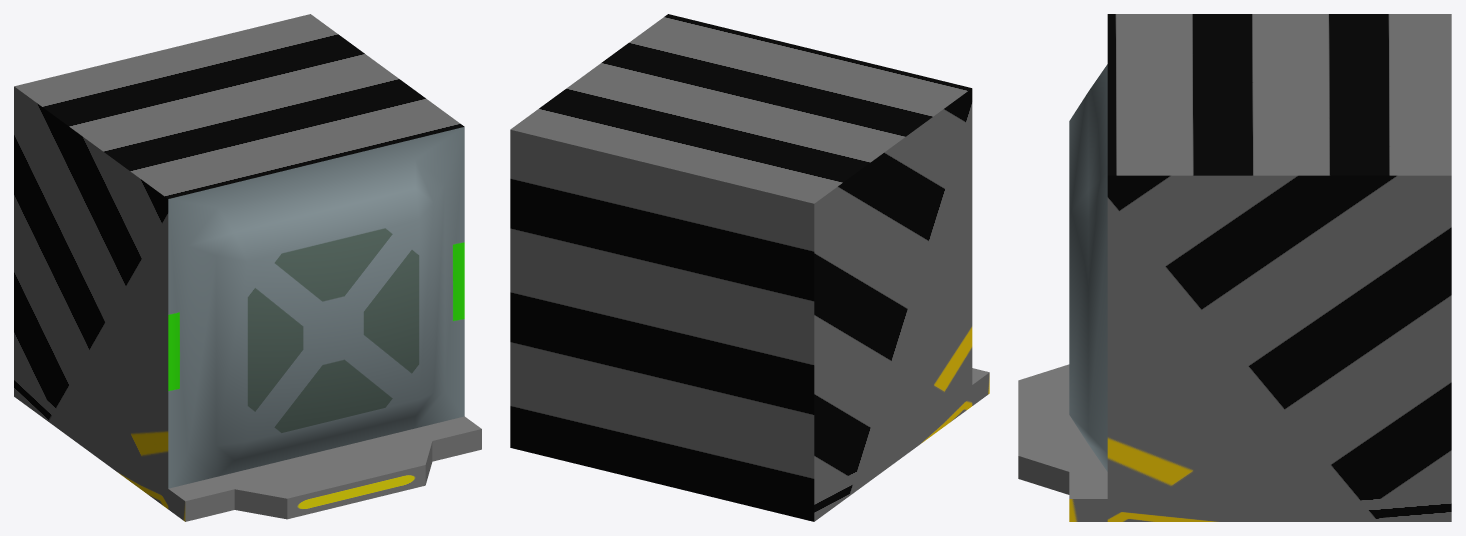
The model's file is MidPartRoofLedges.fbx.
The picture shows the model from 3 angles, left to right: view 1: azimuth 30°, elevation 25°; view 2: azimuth 150°, elevation 25°; view 3: azimuth 270°, elevation 25°; orthographic projection. The views are drawn at different scales.
Visible parts, largest first — view 1: geo1; view 2: geo1; view 3: geo1.
Part boxes in pixels (x1,y1,x2,y2): geo1: [14, 14, 481, 521]; geo1: [510, 14, 989, 521]; geo1: [1018, 14, 1451, 521].
Bounding box in the file's own units: 3 × 3 × 3.4.
